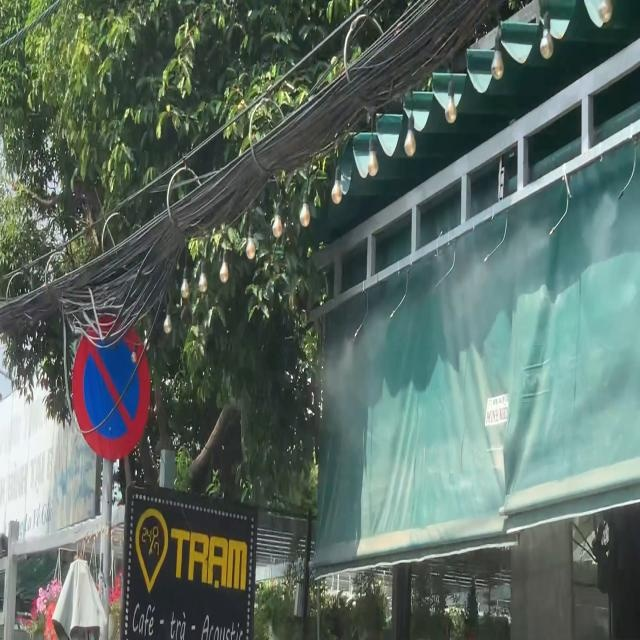bien_cam: (72, 307, 151, 462)
